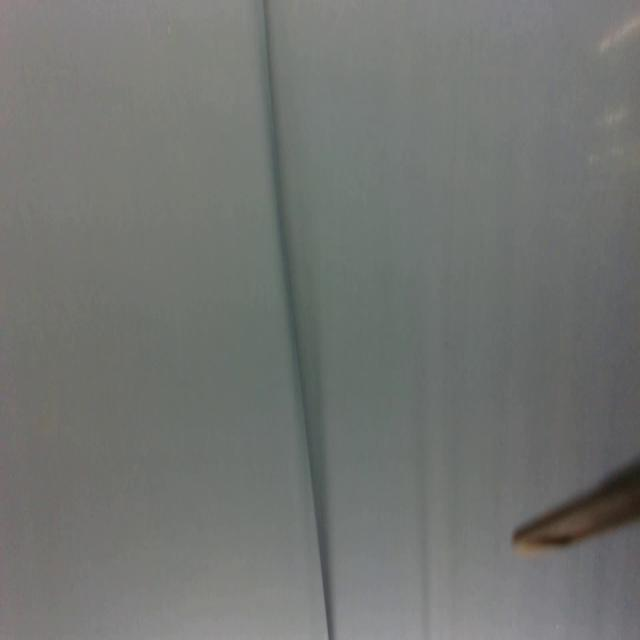crease: (261, 0, 331, 640)
